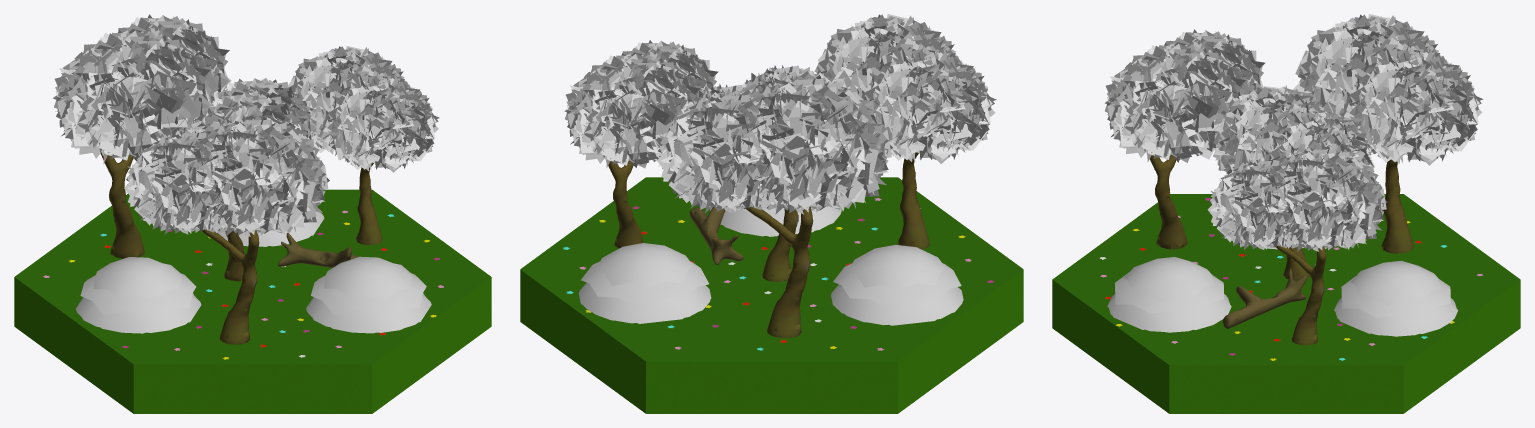
The model's file is Tuile_Foret_Niv3.fbx.
3 renders of one model, left to right at view 1: azimuth 30°, elevation 25°; view 2: azimuth 150°, elevation 25°; view 3: azimuth 270°, elevation 25°, orthographic. The views are drawn at different scales.
Parts seen in each view (by area): view 1: Circle, tree_LP.002, tree_LP, tree_LP.001, tree_LP.003, Plane.001, Plane.007, Plane.003, Plane.009, Plane.002, Plane.008, Cylinder.001 (+1 smaller); view 2: Circle, tree_LP, tree_LP.002, tree_LP.001, Plane.004, Plane.007, tree_LP.003, Plane.009, Plane.006, Plane.005, Plane.008, Plane.003 (+1 smaller); view 3: Circle, tree_LP, tree_LP.001, tree_LP.002, tree_LP.003, Plane.001, Plane.004, Plane.003, Plane.006, Plane.005, Plane.002, Cylinder.001.
Part boxes in pixels (box(x1,y1,x2,y2)): Circle: box(14, 189, 491, 413); tree_LP.002: box(124, 117, 329, 344); tree_LP: box(53, 14, 231, 258); tree_LP.001: box(288, 46, 439, 245); tree_LP.003: box(187, 78, 316, 281); Plane.001: box(323, 256, 413, 300); Plane.007: box(93, 257, 183, 301); Plane.003: box(306, 293, 431, 333); Plane.009: box(76, 293, 201, 333); Plane.002: box(311, 273, 426, 315); Plane.008: box(80, 273, 196, 315); Cylinder.001: box(278, 232, 359, 267); Circle: box(520, 177, 1023, 413); tree_LP: box(657, 75, 892, 337); tree_LP.002: box(814, 14, 996, 249); tree_LP.001: box(564, 40, 718, 248); Plane.004: box(597, 243, 692, 287); Plane.007: box(849, 244, 945, 289); tree_LP.003: box(677, 65, 844, 281); Plane.009: box(831, 284, 963, 325); Plane.006: box(578, 282, 711, 323); Plane.005: box(581, 261, 708, 309); Plane.008: box(833, 263, 961, 310); Plane.003: box(710, 206, 841, 236); Circle: box(1052, 194, 1520, 413); tree_LP: box(1292, 14, 1483, 253); tree_LP.001: box(1207, 147, 1387, 345); tree_LP.002: box(1105, 29, 1265, 249); tree_LP.003: box(1213, 85, 1375, 280); Plane.001: box(1124, 257, 1215, 301); Plane.004: box(1350, 260, 1441, 305); Plane.003: box(1107, 294, 1231, 332); Plane.006: box(1334, 298, 1458, 336); Plane.005: box(1341, 276, 1450, 320); Plane.002: box(1115, 272, 1224, 316); Cylinder.001: box(1222, 268, 1307, 328).
Size of the model in its own units: 107 by 78.69 by 124.
